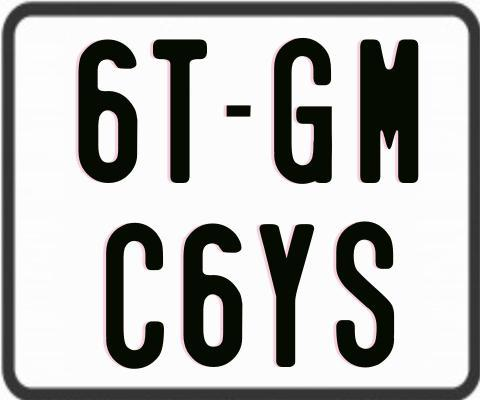6: (181, 220, 245, 366), (78, 39, 139, 189)
C: (104, 222, 162, 371)
G: (271, 36, 331, 184)
M: (357, 38, 417, 182)
S: (334, 220, 397, 372)
T: (150, 37, 207, 181)
Y: (259, 224, 315, 373)
